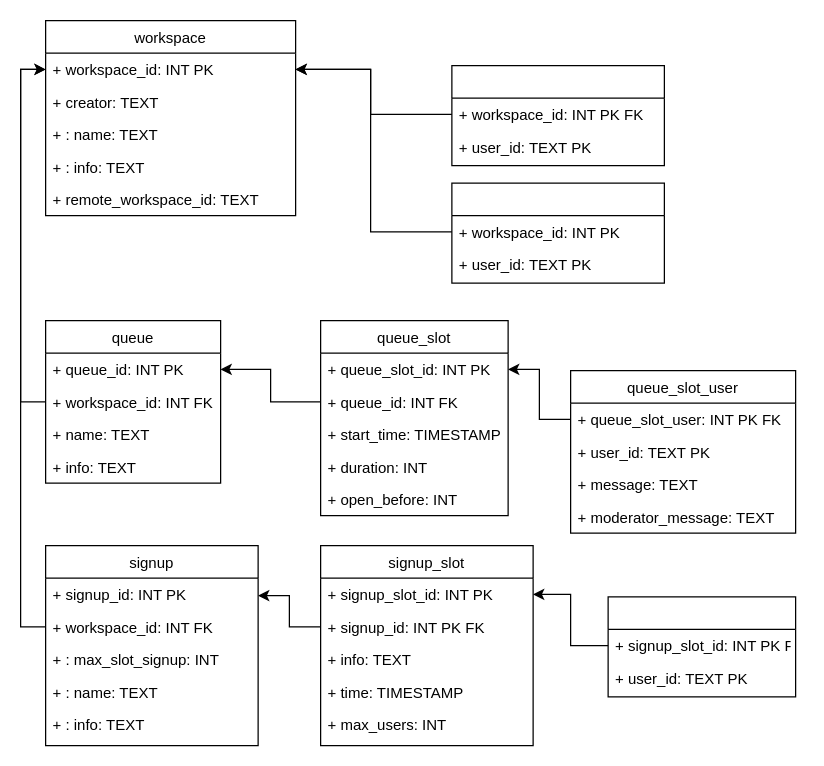
This 824x766 diagram has some shape labels left out. Each missing label, with the box of its shape:
Moderator: (451, 182, 664, 283)
signup_slot_user: (607, 596, 796, 697)
whitelist: (451, 64, 664, 166)
